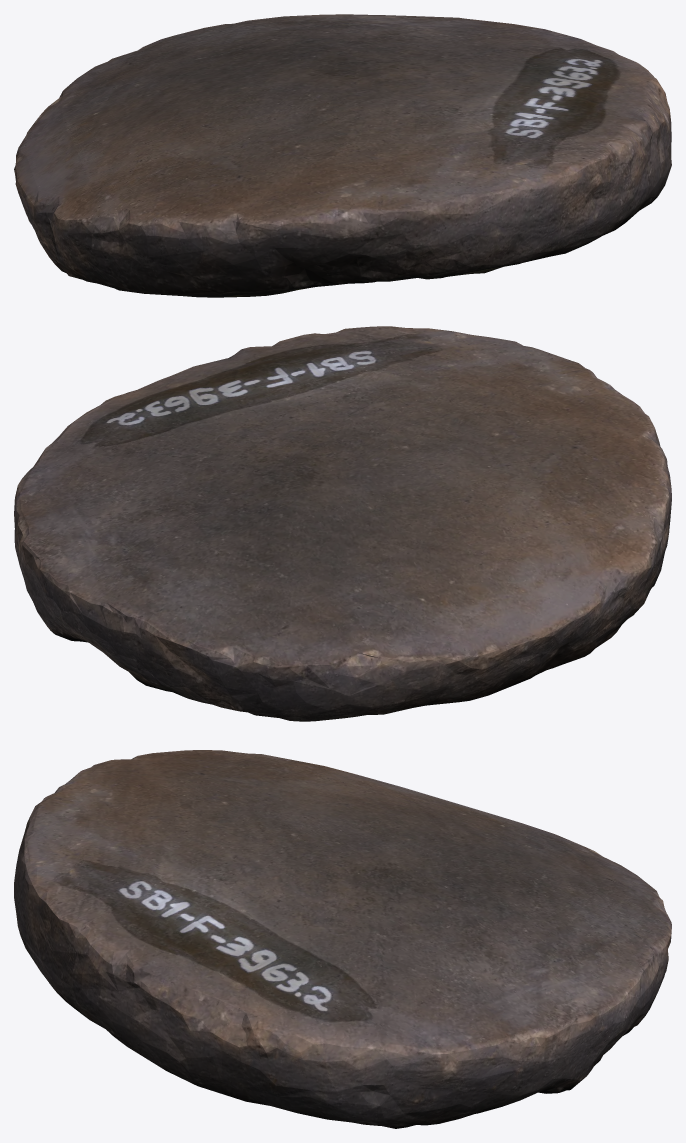
The model's file is Objeto_15_4k-b.glb.
3 views of the same model, one above another, from view 1: azimuth 30°, elevation 25°; view 2: azimuth 150°, elevation 25°; view 3: azimuth 270°, elevation 25° (orthographic). The views are drawn at different scales.
Visible parts, largest first — view 1: Mesh_0; view 2: Mesh_0; view 3: Mesh_0.
Boxes of the visible parts, <box> form: Mesh_0: <box>14,14,671,297</box>; Mesh_0: <box>14,326,671,721</box>; Mesh_0: <box>14,750,671,1128</box>.
Bounding box in the file's own units: 0.1365 × 0.0362 × 0.1308.
Materials: 1 (1 with a texture image).
